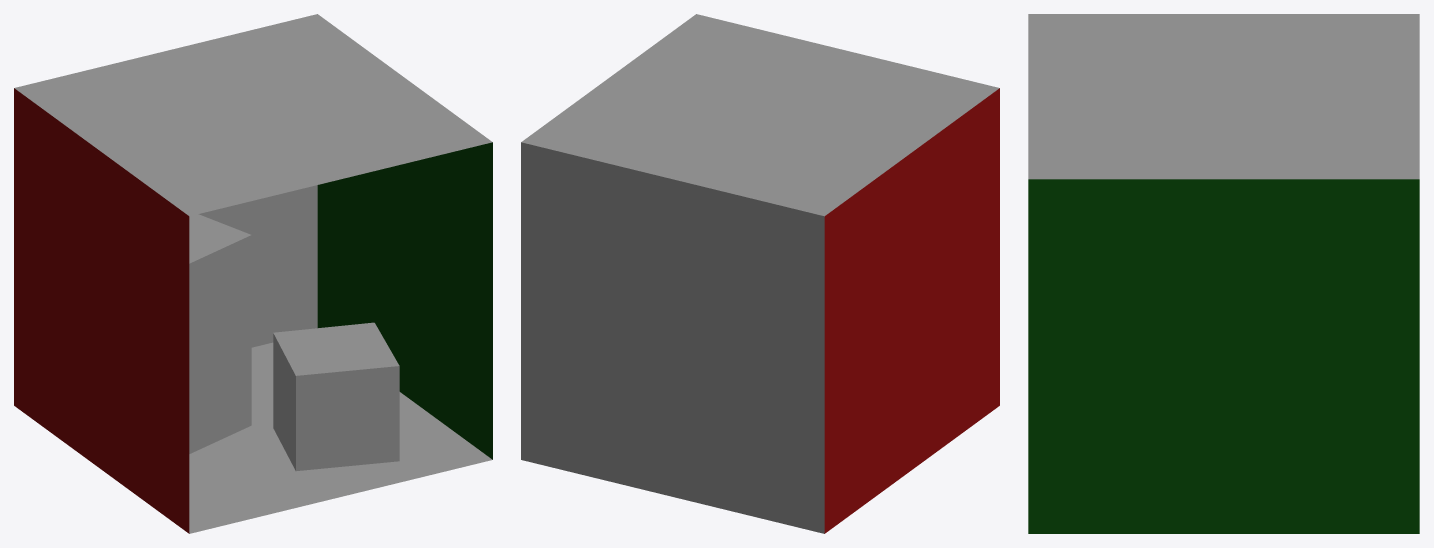
File: cornell.obj
3 renders of one model, left to right at view 1: azimuth 30°, elevation 25°; view 2: azimuth 150°, elevation 25°; view 3: azimuth 270°, elevation 25°, orthographic. The views are drawn at different scales.
Size of the model in its own units: 2 by 2 by 2.
